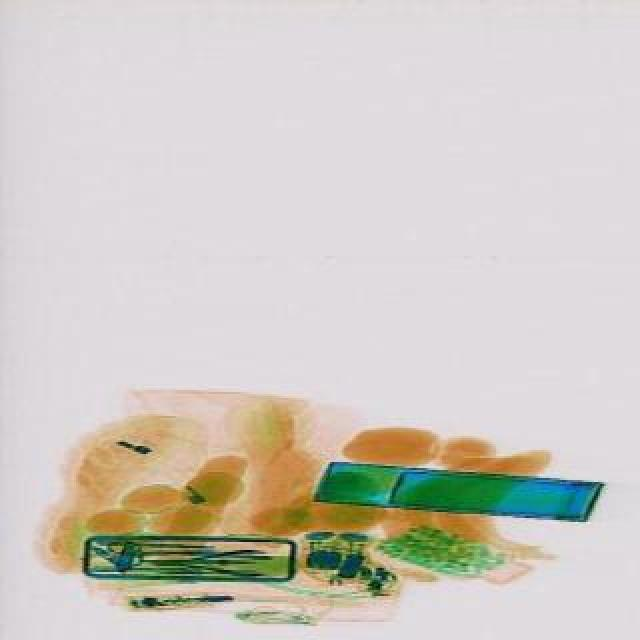pliers: (104, 536, 216, 568)
wrench: (142, 546, 264, 578)
